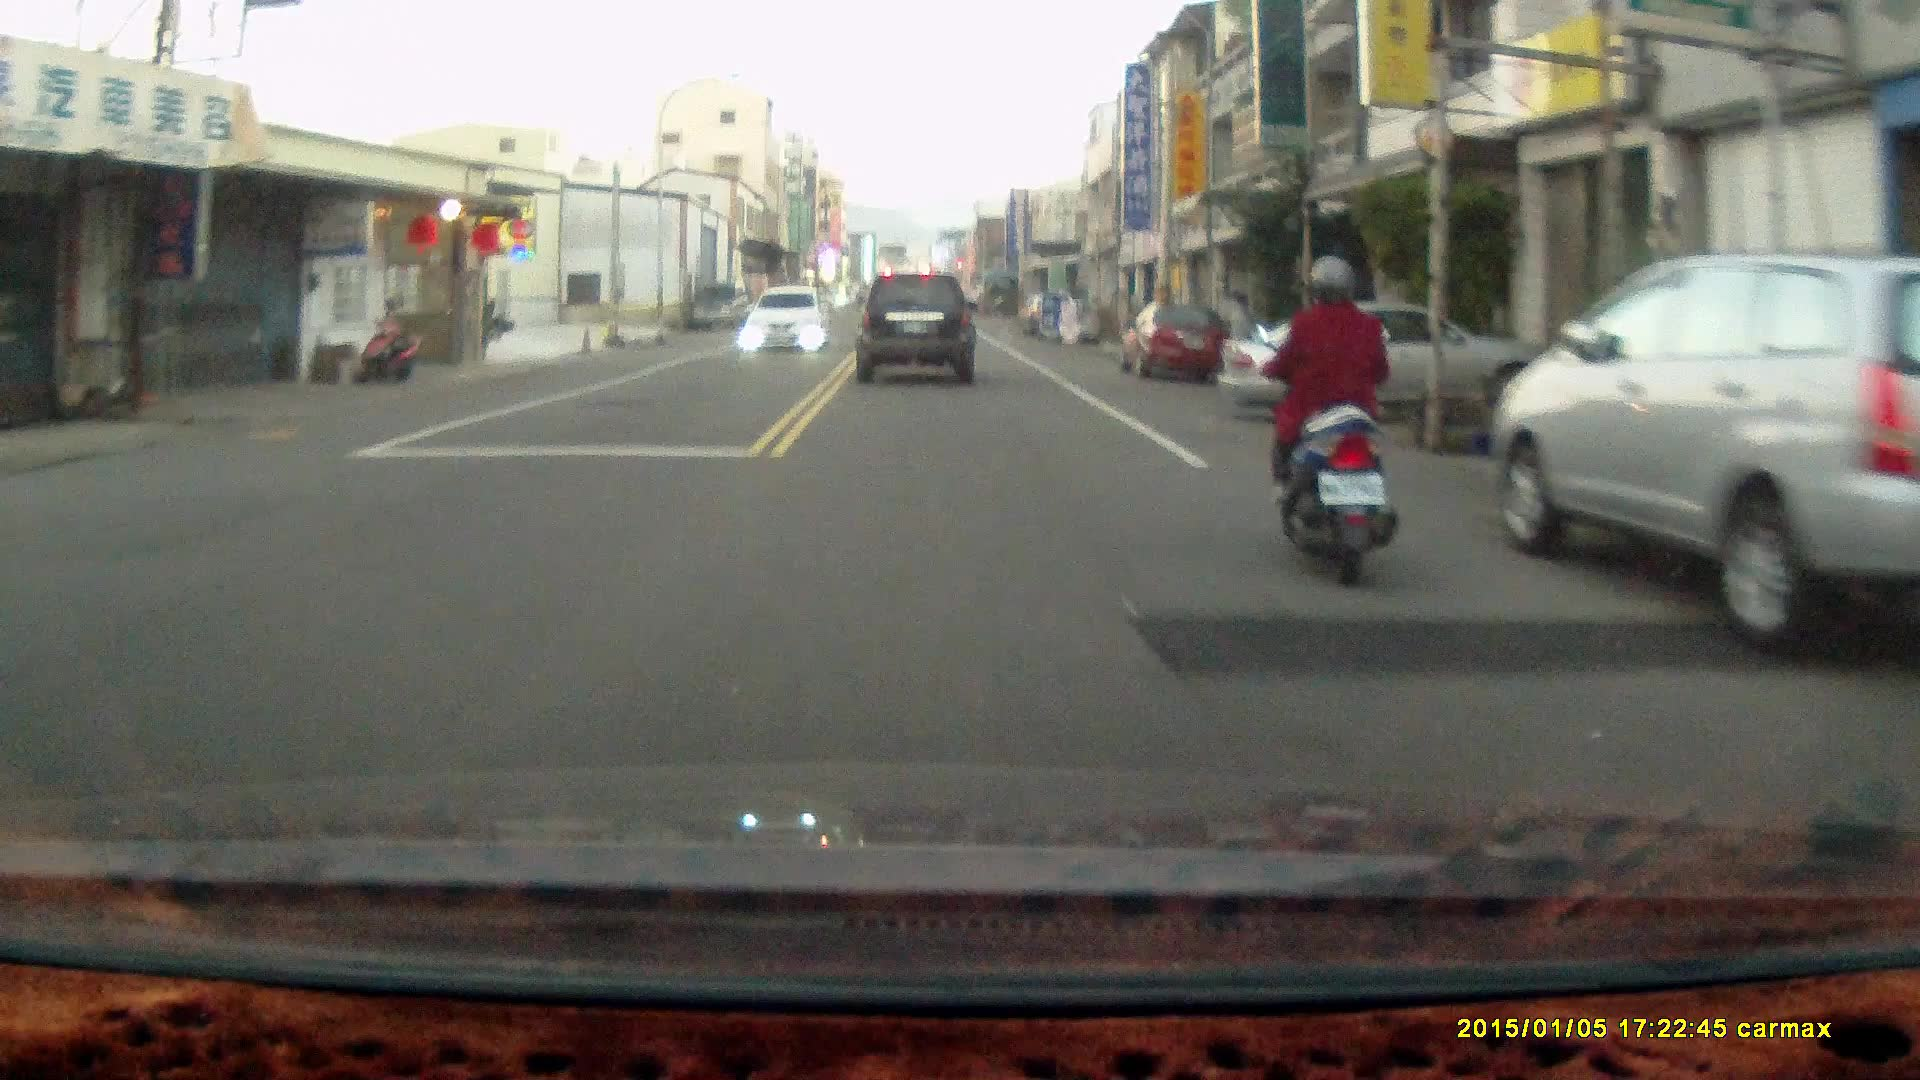rider: (1241, 255, 1403, 584)
vehicle: (1489, 248, 1915, 656), (1222, 299, 1522, 427), (855, 265, 981, 380), (1119, 300, 1235, 376), (742, 283, 832, 349), (690, 281, 751, 329)
